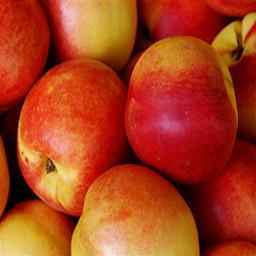apple: (16, 60, 132, 212), (122, 37, 238, 185), (72, 164, 198, 255), (187, 139, 256, 246), (40, 1, 137, 71), (1, 3, 49, 117), (1, 200, 74, 256), (137, 1, 222, 44)
